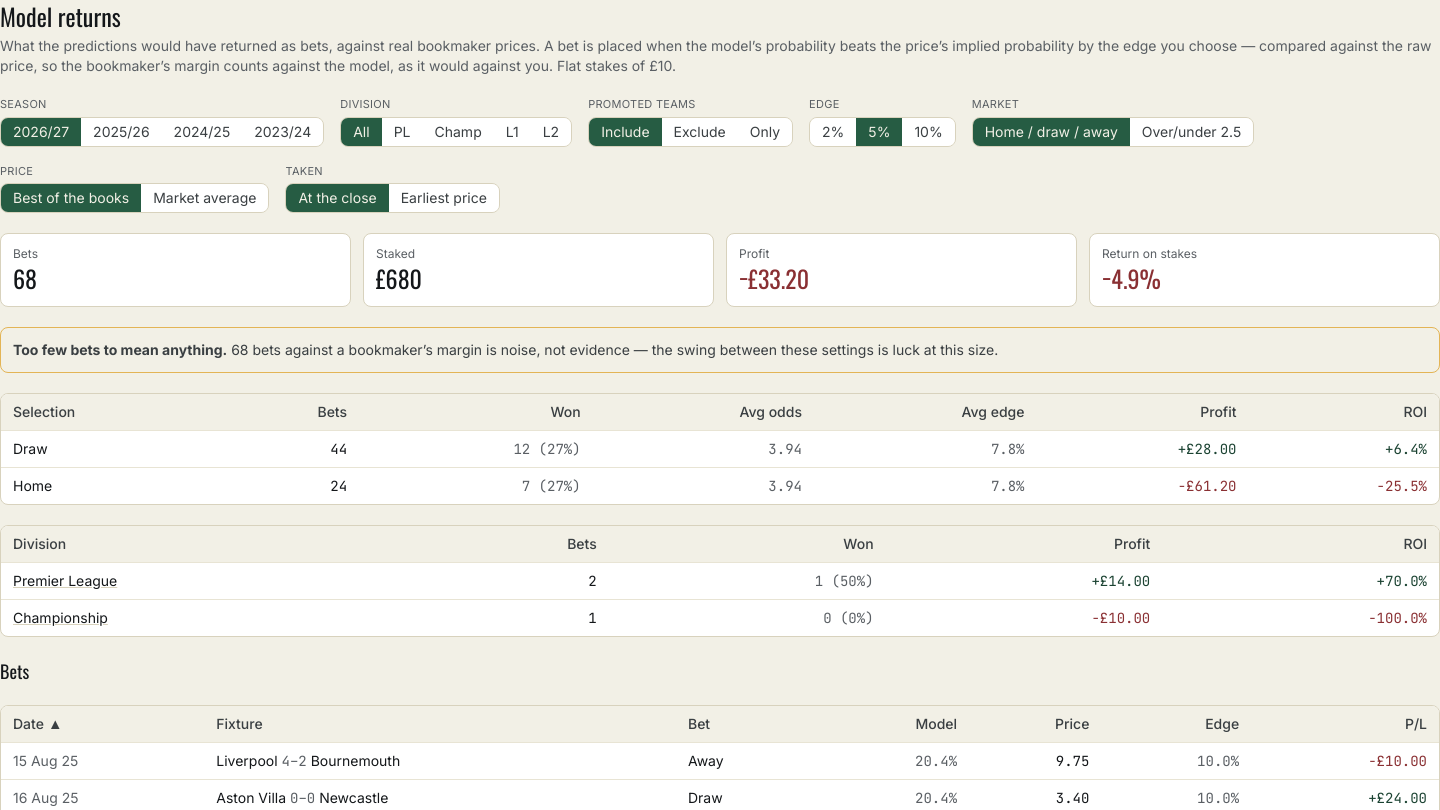
Test: Model returns page › shows returns by division; choosing one filters the selection table and the bet list
The image size is (1440, 810).
expect the button "Premier League" is shown: met, box [13, 571, 117, 591]
Click the button "Championship" at (60, 618), box [13, 608, 108, 628]
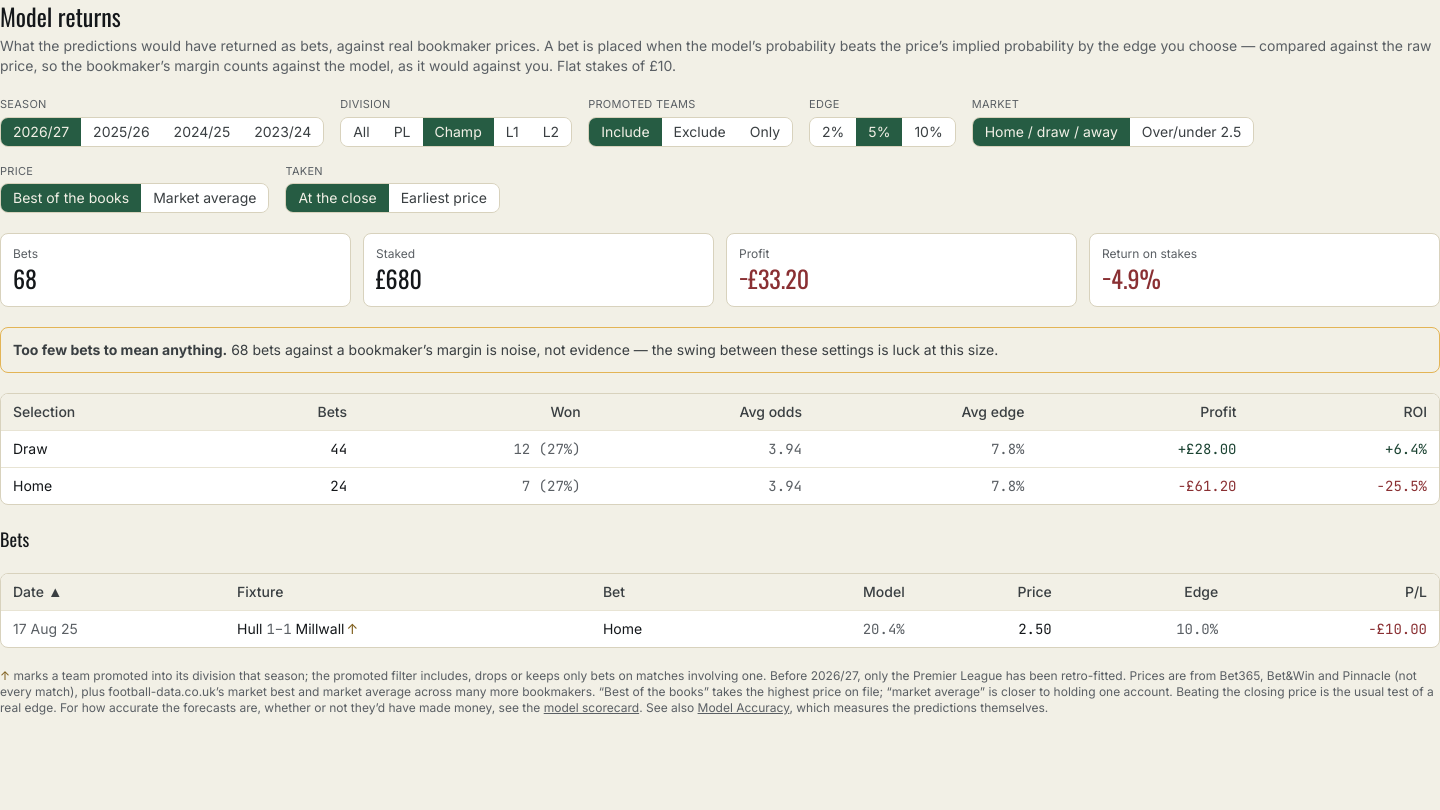
expect the row "17 Aug 25 Hull 1–1 Millwall↑ Home 20.4% 2.50 10.0% −£10.00" is shown: met, box [1, 610, 1439, 647]
expect the table named "Bets placed" is shown: met, box [1, 574, 1439, 647]
